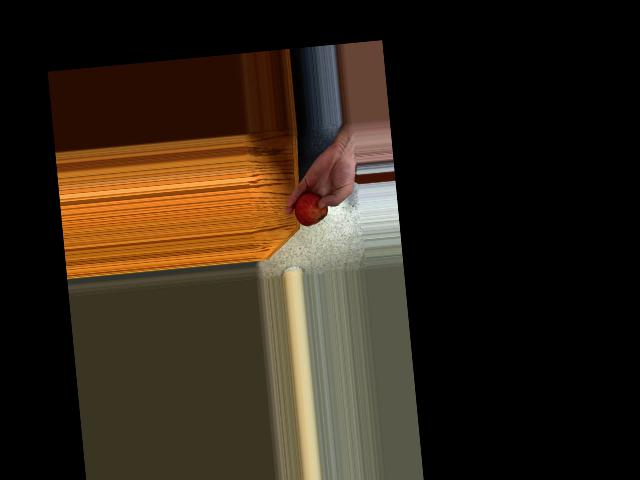apple: (291, 184, 331, 229)
